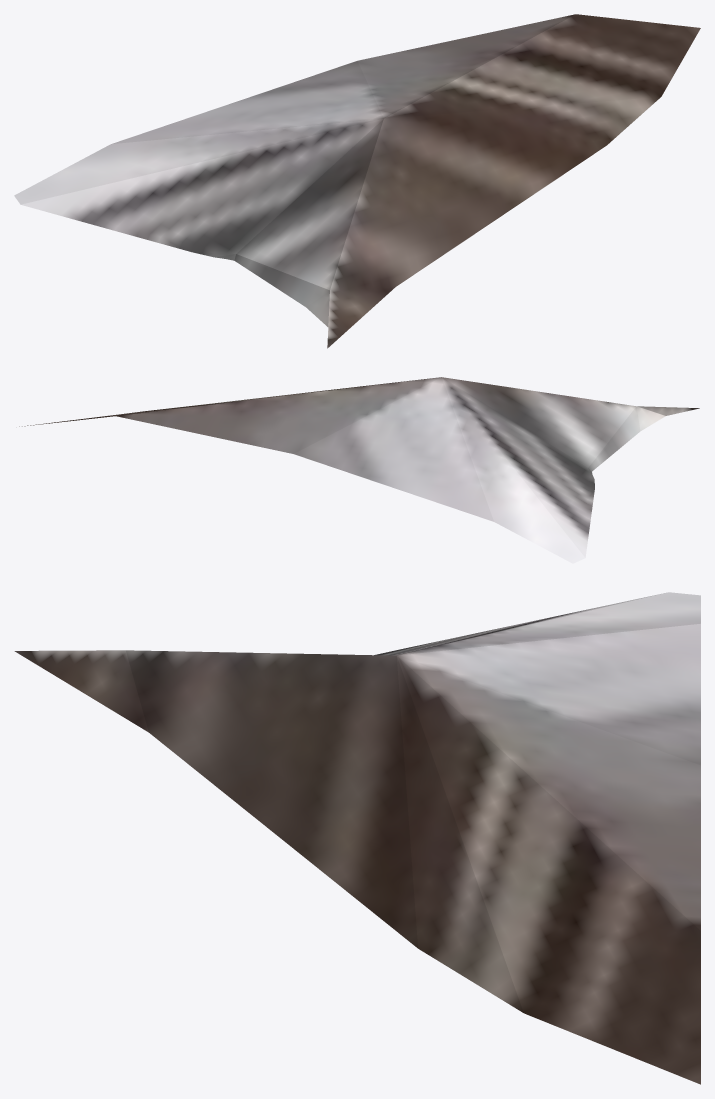
3 views of the same model, one above another, from view 1: azimuth 30°, elevation 25°; view 2: azimuth 150°, elevation 25°; view 3: azimuth 270°, elevation 25° (orthographic). The views are drawn at different scales.
Size of the model in its own units: 1.31 by 0.1597 by 0.7707.
1 material, 1 textured.
